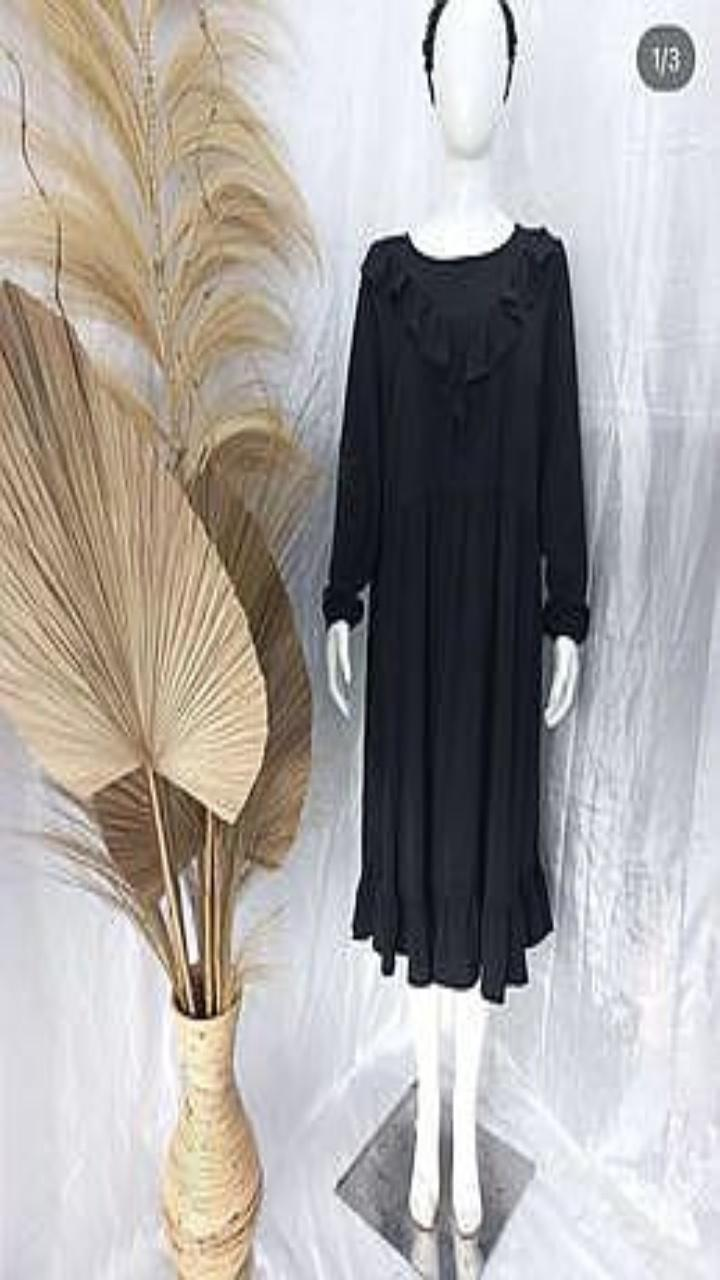Dresses: (322, 223, 588, 1001)
